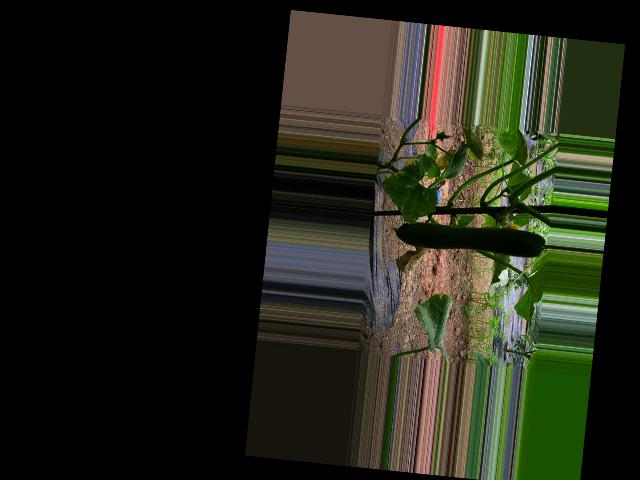cucumber: (390, 217, 546, 260)
